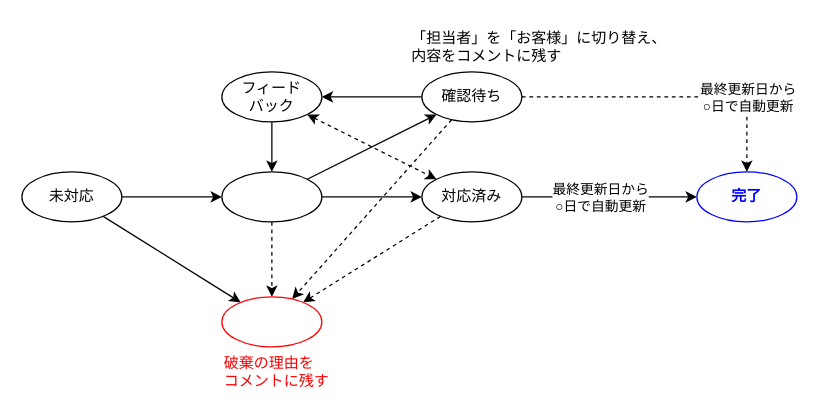
The diagram is 819 pixels wide and 418 high, and some of its shapes have lost their labels. Each missing label, with the centre of its shape:
対応中: the point at 271,196
破棄: the point at 271,321
